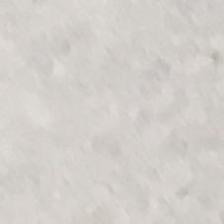Non_Crack: (30, 22, 210, 186)
